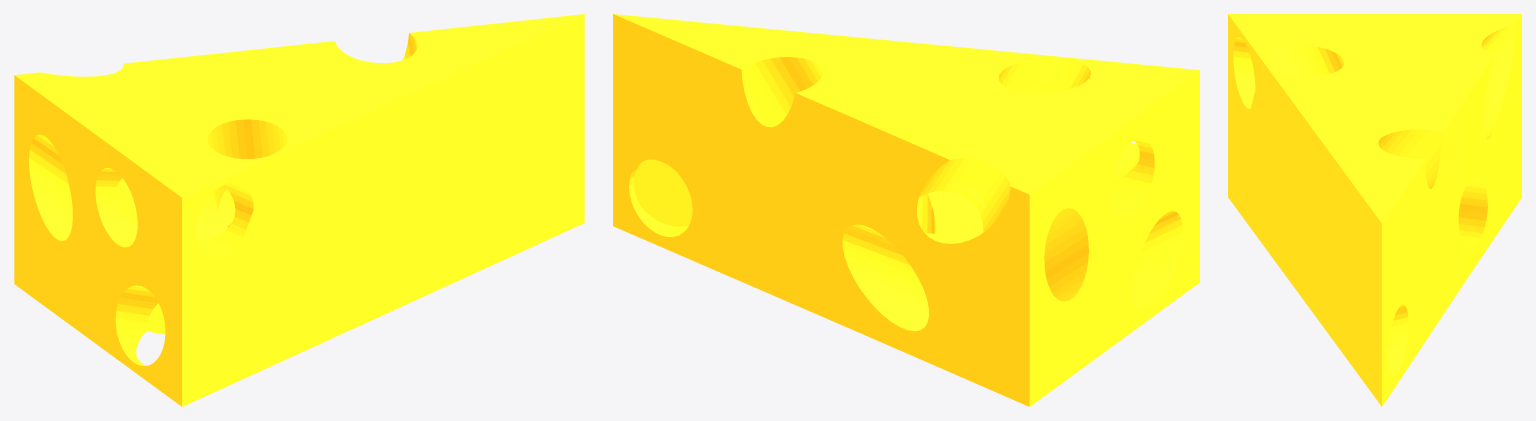
Rendered from Cheese.fbx.
3 renders of one model, left to right at view 1: azimuth 30°, elevation 25°; view 2: azimuth 150°, elevation 25°; view 3: azimuth 270°, elevation 25°, orthographic. The views are drawn at different scales.
Visible parts, largest first — view 1: CHEESE; view 2: CHEESE; view 3: CHEESE.
Part boxes in pixels (x1,y1,x2,y2): CHEESE: (14, 14, 584, 406); CHEESE: (613, 14, 1199, 406); CHEESE: (1228, 14, 1521, 406).
Size of the model in its own units: 26510 by 10806 by 15707.
